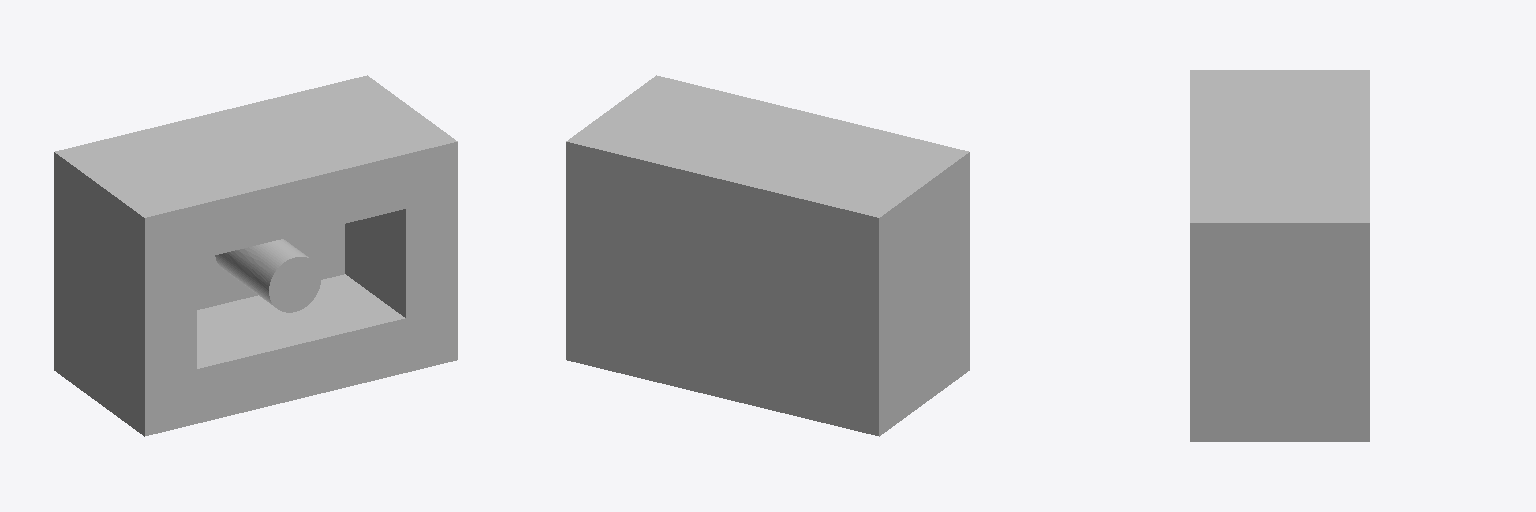
File: tank21.obj
3 views of the same model, side by side, from view 1: azimuth 30°, elevation 25°; view 2: azimuth 150°, elevation 25°; view 3: azimuth 270°, elevation 25° (orthographic).
Bounding box in the file's own units: 3 × 2 × 1.5.